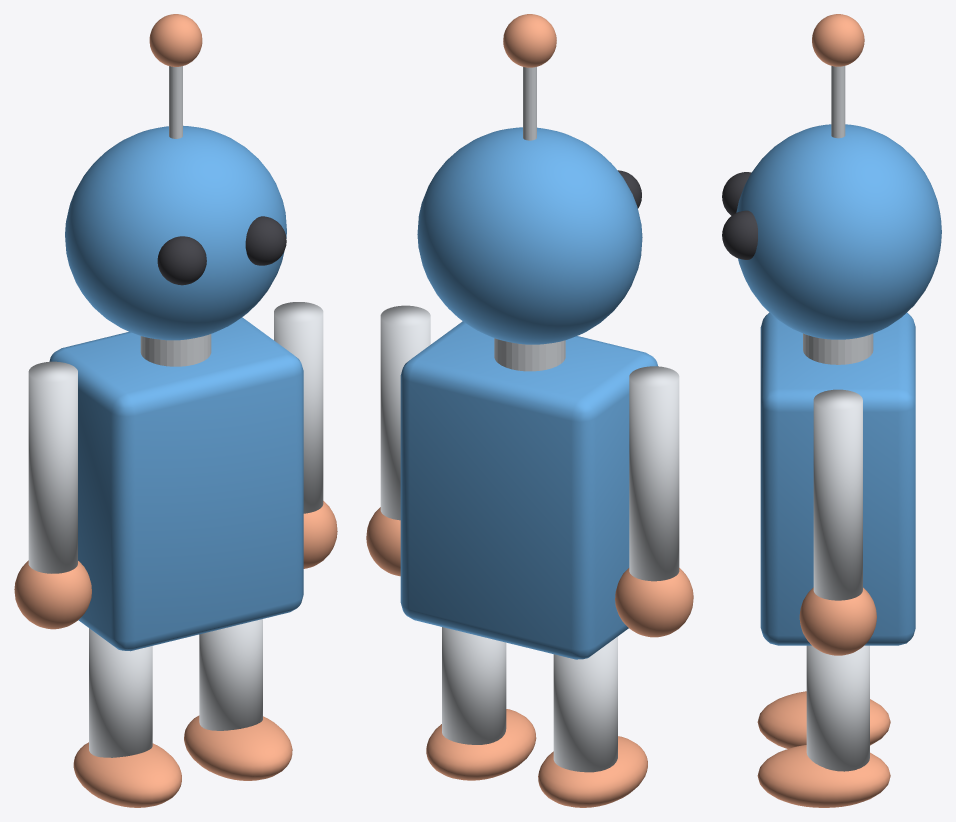
The model's file is robot.glb.
3 renders of one model, left to right at view 1: azimuth 30°, elevation 25°; view 2: azimuth 150°, elevation 25°; view 3: azimuth 270°, elevation 25°, orthographic.
Parts seen in each view (by area): view 1: Corps, Tete, Bras_G, Jambe_G, Jambe_D, Bras_D, Pied_G, Pied_D, Main_G, Boule_Antenne, Oeil_G, Cou (+3 smaller); view 2: Corps, Tete, Bras_G, Jambe_G, Jambe_D, Bras_D, Pied_D, Pied_G, Main_G, Boule_Antenne, Cou, Main_D (+1 smaller); view 3: Tete, Corps, Bras_D, Jambe_D, Pied_D, Main_D, Pied_G, Boule_Antenne, Cou, Oeil_D, Antenne, Oeil_G.
Boxes of the visible parts, x1,y1,x2,y2 form: Corps: (49,317,303,651); Tete: (65,125,286,340); Bras_G: (28,361,77,573); Jambe_G: (89,628,152,757); Jambe_D: (199,619,262,730); Bras_D: (274,302,323,513); Pied_G: (73,742,181,807); Pied_D: (184,715,292,780); Main_G: (14,560,91,629); Boule_Antenne: (149,14,202,66); Oeil_G: (157,236,206,285); Cou: (140,334,211,366); Corps: (400,321,657,659); Tete: (417,127,642,344); Bras_G: (629,366,679,581); Jambe_G: (553,636,617,772); Jambe_D: (442,627,506,744); Bras_D: (380,305,430,520); Pied_D: (426,709,536,780); Pied_G: (538,736,647,807); Main_G: (615,568,693,637); Boule_Antenne: (503,14,556,67); Cou: (494,338,565,371); Main_D: (366,507,400,576); Tete: (736,124,941,339); Corps: (760,312,915,645); Bras_D: (813,389,862,600); Jambe_D: (806,645,869,771); Pied_D: (757,745,890,807); Main_D: (799,587,876,655); Pied_G: (757,691,890,748); Boule_Antenne: (812,14,864,66); Cou: (803,333,873,364); Oeil_D: (722,210,757,259); Antenne: (831,66,845,138); Oeil_G: (722,172,751,215).
Size of the model in its own units: 1.02 by 2.37 by 0.6244.
